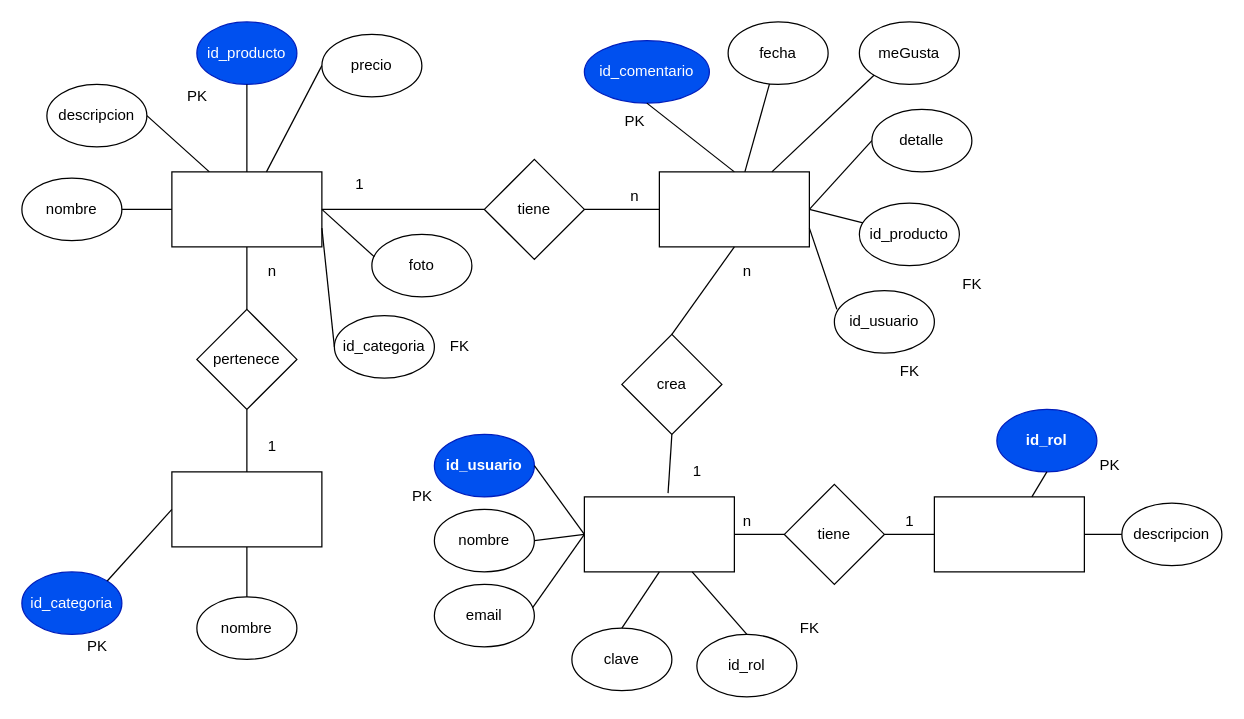
Image size: 1244x719. Some labels were removed from this diagram. Each missing label, with the centre of its shape:
Categorias: the point at 246,509
Comentarios: the point at 733,209
Productos: the point at 246,209
Roles: the point at 1008,534
Usuario: the point at 658,534
